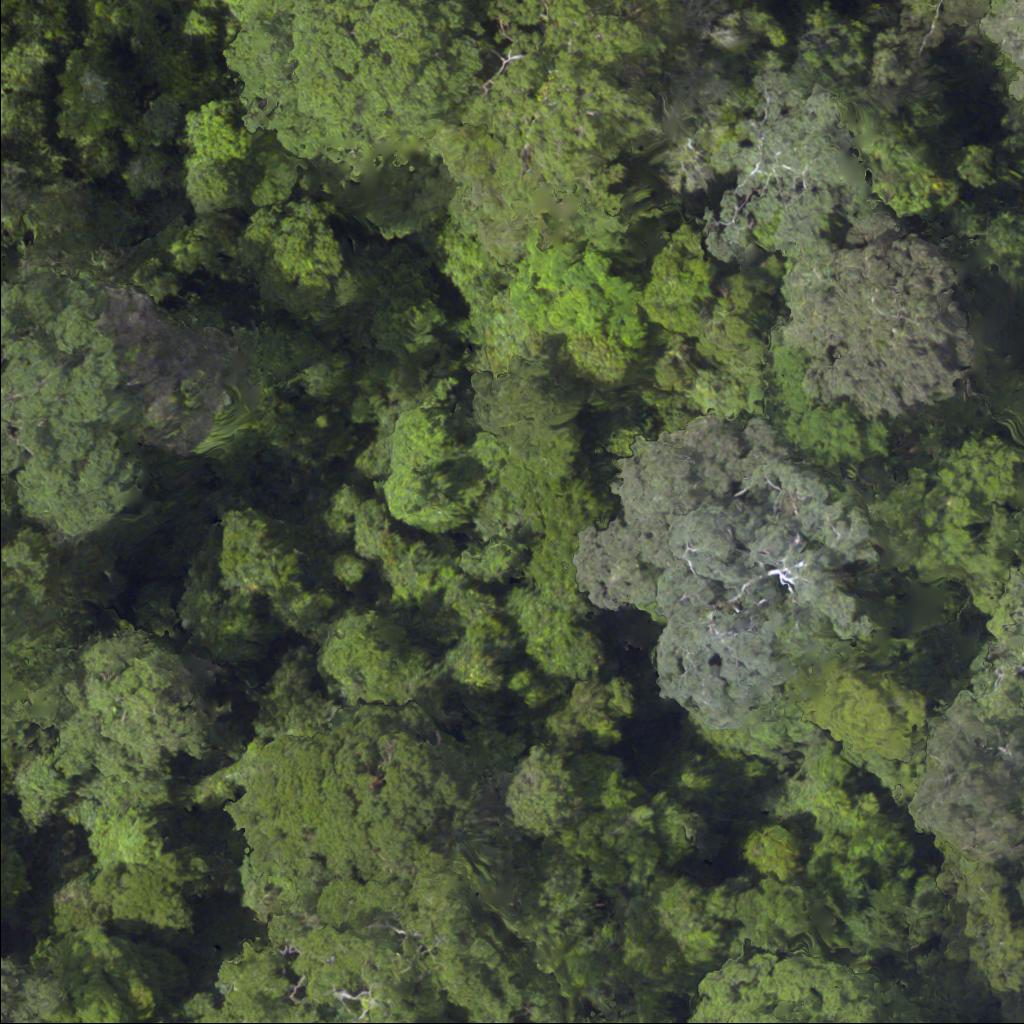crown: (578, 426, 864, 716), (229, 700, 516, 937), (225, 0, 492, 182), (788, 214, 969, 412), (0, 279, 133, 521), (113, 298, 239, 447), (766, 353, 882, 469), (0, 638, 71, 781), (182, 100, 250, 163), (0, 968, 59, 1023), (180, 161, 234, 214)
